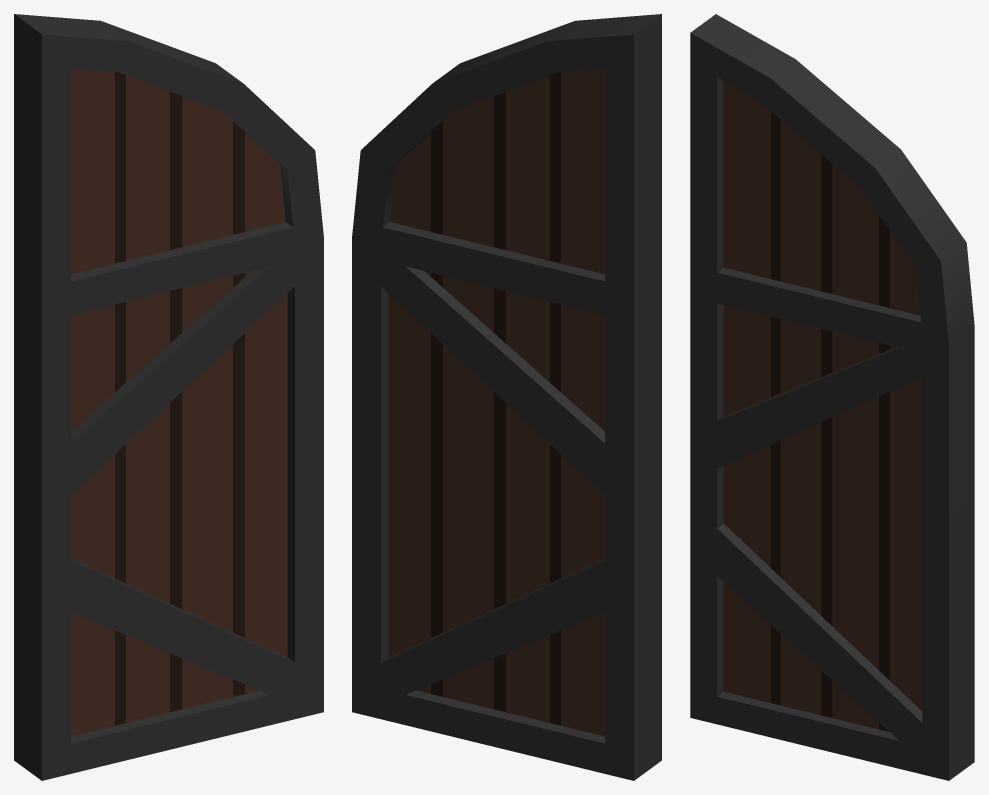
Rendered from Dest_Hall_Door.FBX.
The picture shows the model from 3 angles, left to right: view 1: azimuth 30°, elevation 25°; view 2: azimuth 150°, elevation 25°; view 3: azimuth 330°, elevation 25°; orthographic projection. The views are drawn at different scales.
Visible parts, largest first — view 1: Box003; view 2: Box003; view 3: Box003.
Part boxes in pixels (x1,y1,x2,y2): Box003: (14,14,323,780); Box003: (352,14,661,780); Box003: (690,14,974,780).
Bounding box in the file's own units: 15.13 × 38.3 × 2.6.
